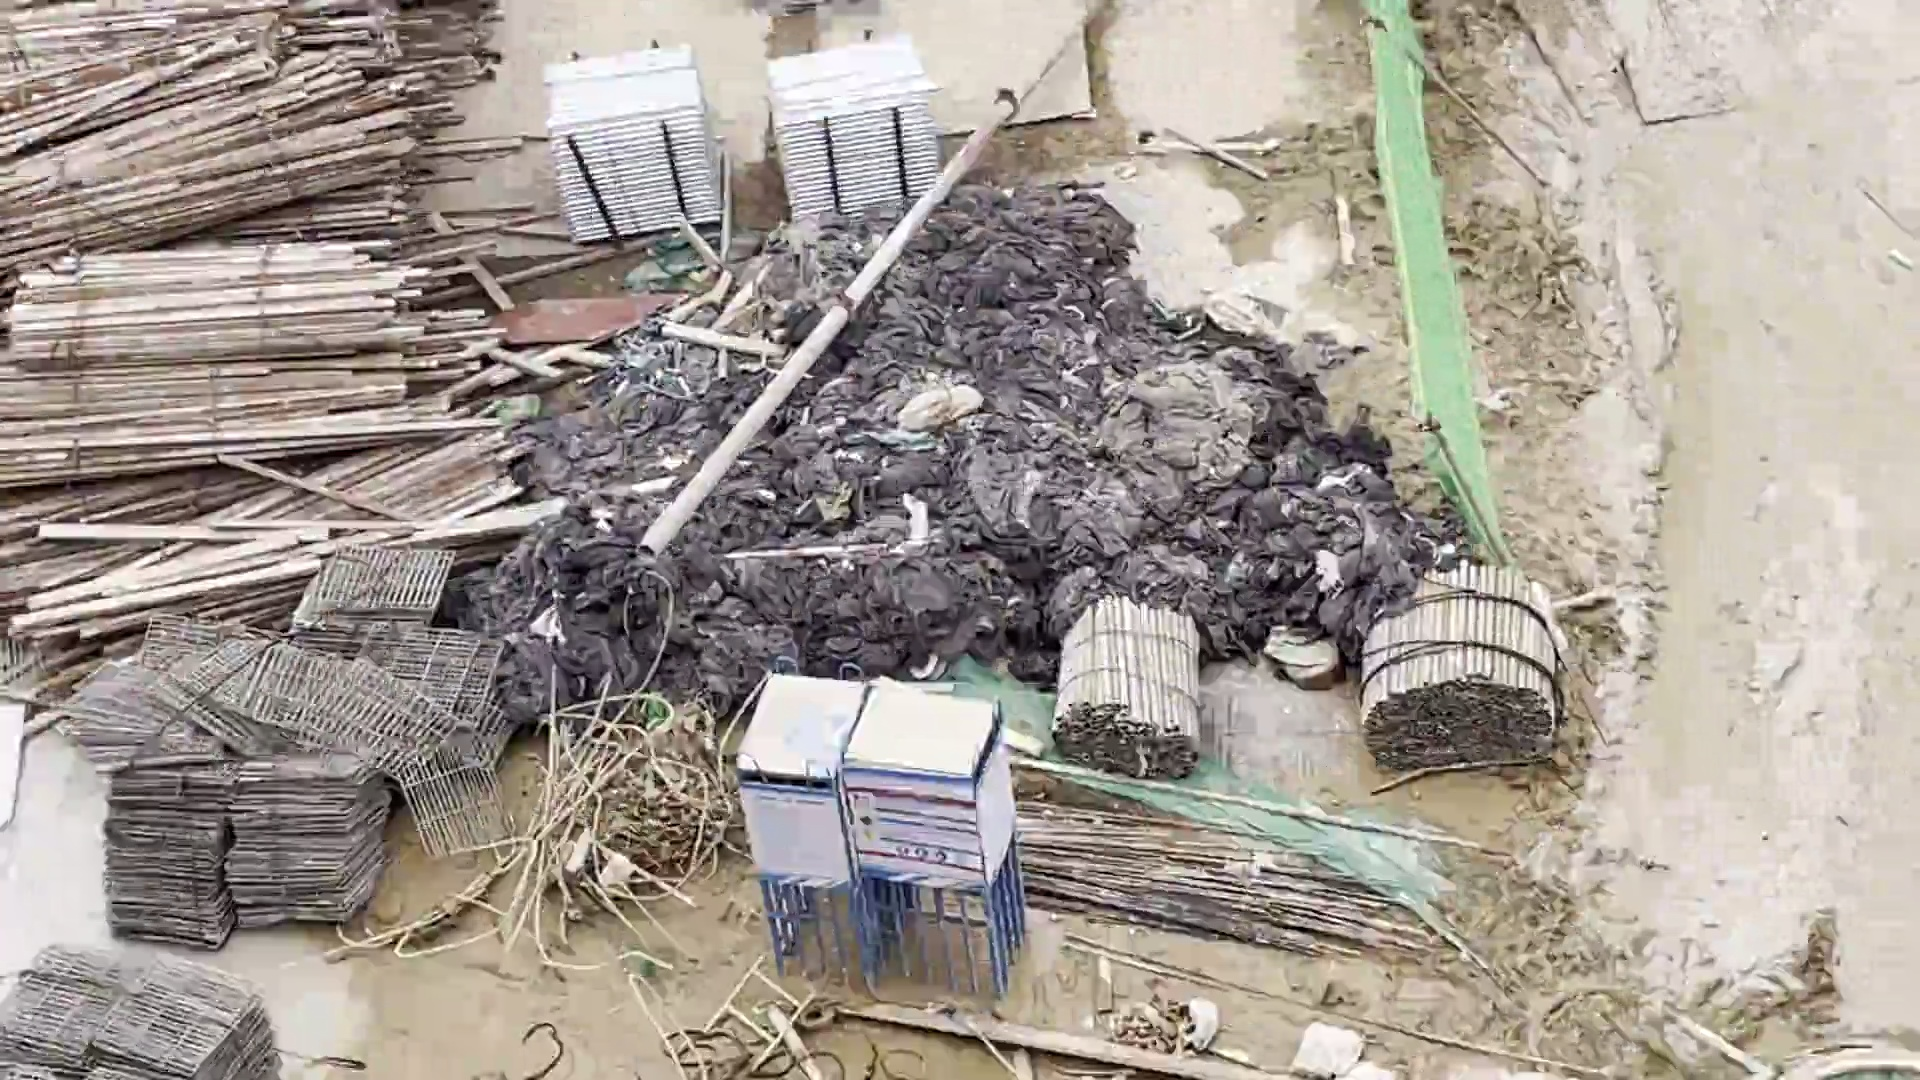scaffold: (1362, 562, 1561, 771), (752, 44, 968, 233), (539, 54, 748, 241), (1050, 611, 1217, 775)
wood: (5, 256, 510, 541), (3, 7, 495, 243)
